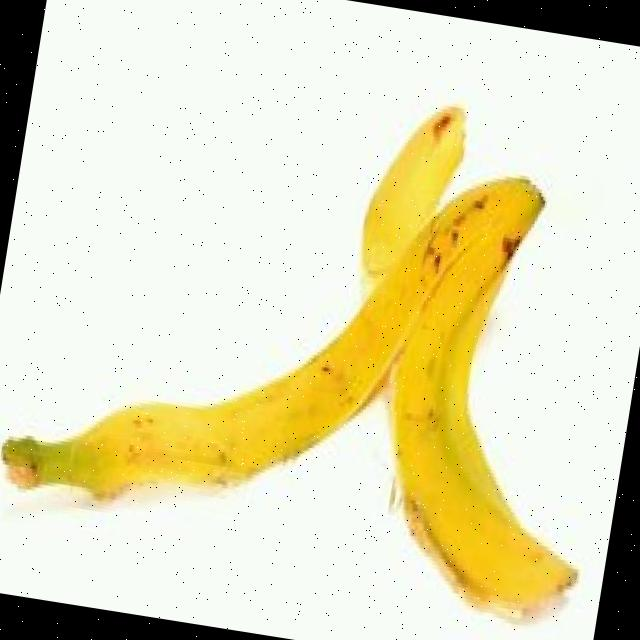banana-peel: (0, 41, 640, 628)
